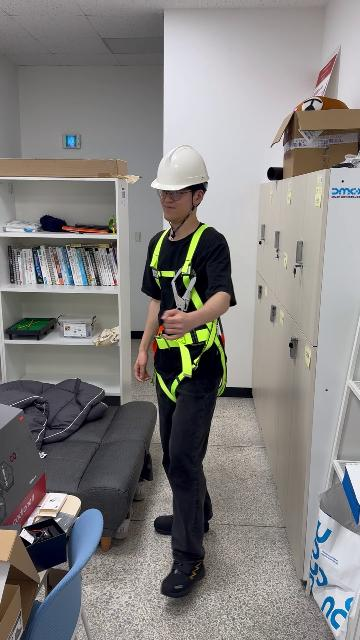helmet_worn: (151, 144, 211, 189)
shoe_worn: (161, 560, 206, 597)
vest_worn: (149, 224, 231, 403)
